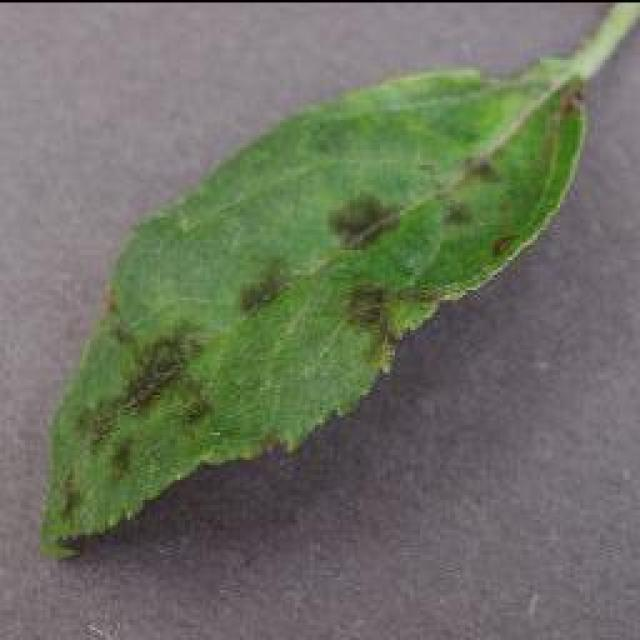apple scab disease: (34, 0, 637, 562)
